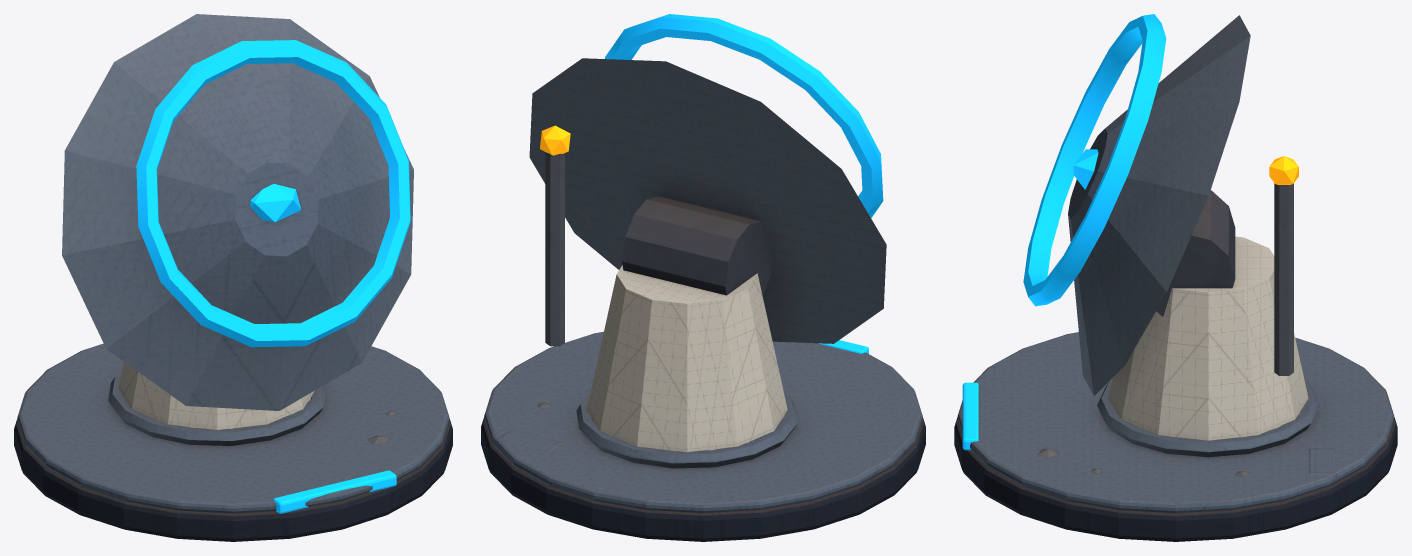
File: scanner.glb
3 renders of one model, left to right at view 1: azimuth 30°, elevation 25°; view 2: azimuth 150°, elevation 25°; view 3: azimuth 270°, elevation 25°, orthographic.
Visible parts, largest first — view 1: Android Chassis, Android FactionAccent, Android Graphite, Android Ceramic; view 2: Android Chassis, Android Ceramic, Android Graphite, Android FactionAccent, Android Energy; view 3: Android Chassis, Android Ceramic, Android Graphite, Android FactionAccent, Android Energy.
Part boxes in pixels (left/top/right/bottom): Android Chassis: left=17, top=14, right=449, bottom=513; Android FactionAccent: left=136, top=40, right=410, bottom=513; Android Graphite: left=14, top=411, right=452, bottom=541; Android Ceramic: left=118, top=362, right=314, bottom=429; Android Chassis: left=484, top=58, right=922, bottom=512; Android Ceramic: left=586, top=265, right=787, bottom=452; Android Graphite: left=481, top=152, right=925, bottom=541; Android FactionAccent: left=605, top=14, right=883, bottom=353; Android Energy: left=540, top=125, right=570, bottom=155; Android Chassis: left=957, top=15, right=1394, bottom=513; Android Ceramic: left=1108, top=236, right=1308, bottom=440; Android Graphite: left=954, top=183, right=1397, bottom=541; Android FactionAccent: left=962, top=14, right=1166, bottom=450; Android Energy: left=1269, top=156, right=1298, bottom=185.
Size of the model in its own units: 0.82 by 0.8595 by 0.82.
Materials: 6 (4 with a texture image).
